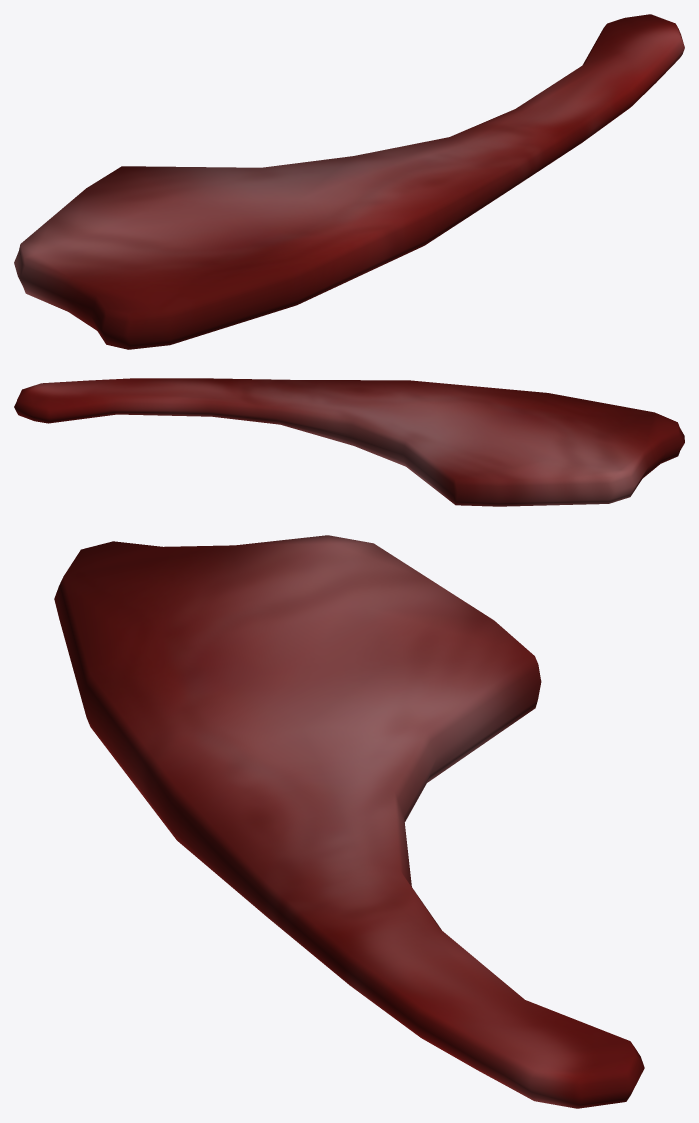
Rendered from MeatFour.fbx.
The picture shows the model from 3 angles, top to bottom: view 1: azimuth 30°, elevation 25°; view 2: azimuth 150°, elevation 25°; view 3: azimuth 270°, elevation 25°; orthographic projection. The views are drawn at different scales.
Visible parts, largest first — view 1: MeatFour; view 2: MeatFour; view 3: MeatFour.
Part boxes in pixels (box(x1,y1,x2,y2)): MeatFour: box(14, 14, 684, 349); MeatFour: box(14, 378, 684, 506); MeatFour: box(54, 535, 644, 1108).
Bounding box in the file's own units: 106 × 4.83 × 49.11.
